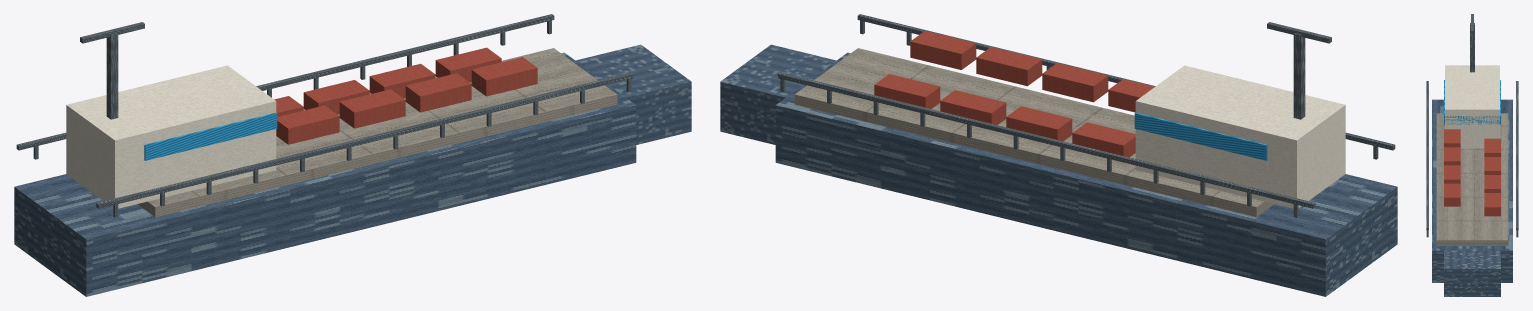
The model's file is cargo_ship_optimized.gltf.
The picture shows the model from 3 angles, left to right: view 1: azimuth 30°, elevation 25°; view 2: azimuth 150°, elevation 25°; view 3: azimuth 270°, elevation 25°; orthographic projection. The views are drawn at different scales.
Parts seen in each view (by area): view 1: cargo_ship_optimized; view 2: cargo_ship_optimized; view 3: cargo_ship_optimized.
Boxes of the visible parts, box(x1,y1,x2,y2) form: cargo_ship_optimized: box(14, 14, 691, 296); cargo_ship_optimized: box(720, 14, 1397, 296); cargo_ship_optimized: box(1426, 14, 1518, 296).
Bounding box in the file's own units: 168 × 58.6 × 38.7.
Materials: 6 (6 with a texture image).
